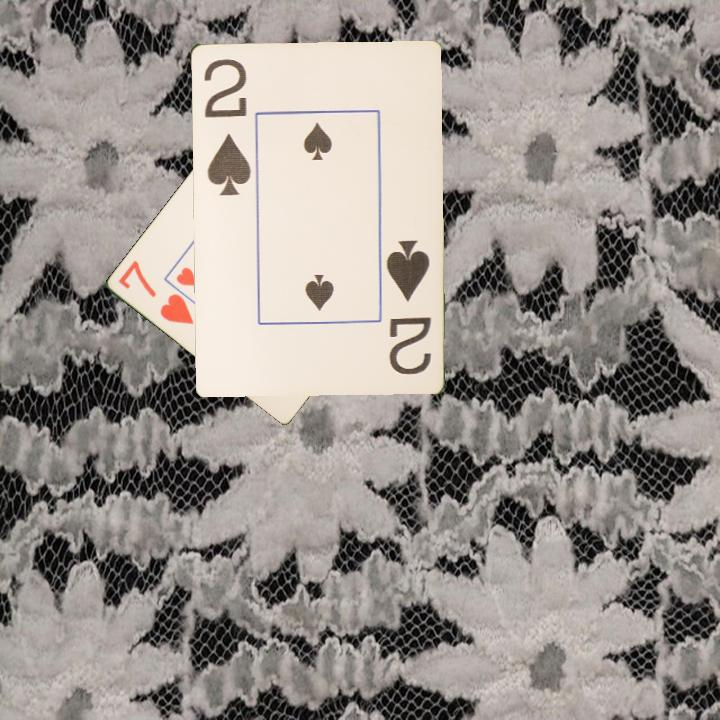2s: (200, 55, 254, 198), (382, 236, 434, 377)
7h: (115, 257, 197, 327)
